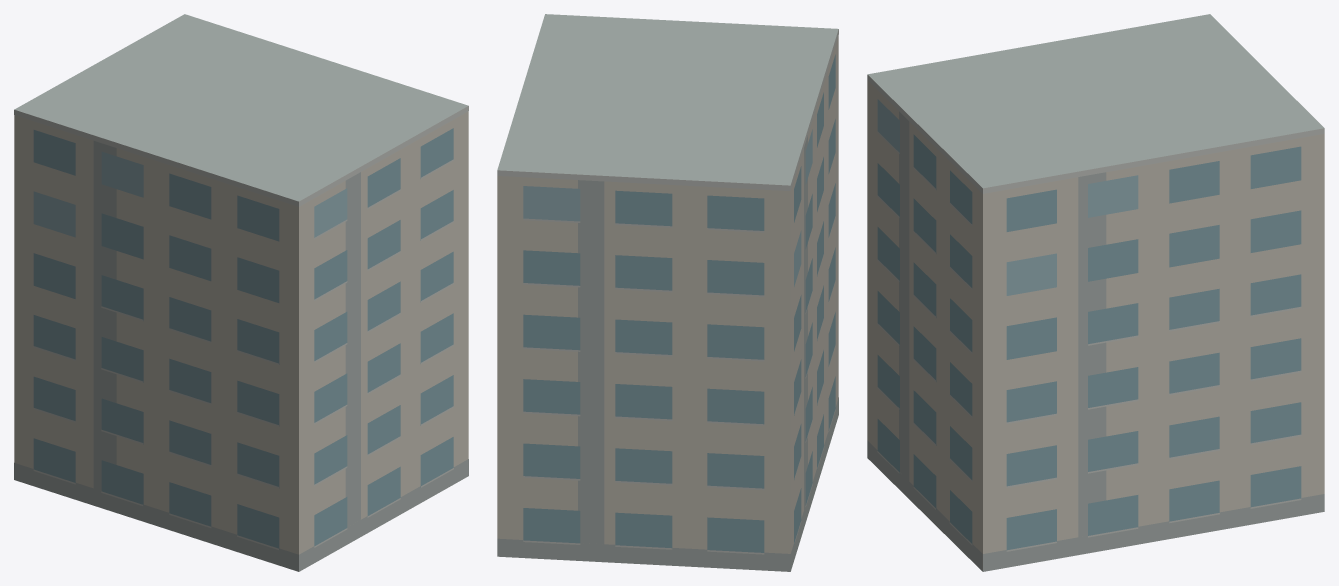
The model's file is survey-upis-32797626.glb.
3 views of the same model, side by side, from view 1: azimuth 30°, elevation 25°; view 2: azimuth 150°, elevation 25°; view 3: azimuth 270°, elevation 25° (orthographic). The views are drawn at different scales.
Visible parts, largest first — view 1: survey-upis-32797626.tmp; view 2: survey-upis-32797626.tmp; view 3: survey-upis-32797626.tmp.
Boxes of the visible parts, x1,y1,x2,y2 form: survey-upis-32797626.tmp: (14,14,468,571); survey-upis-32797626.tmp: (497,14,838,571); survey-upis-32797626.tmp: (867,14,1324,571).
Size of the model in its own units: 16.49 by 16.9 by 18.27.
